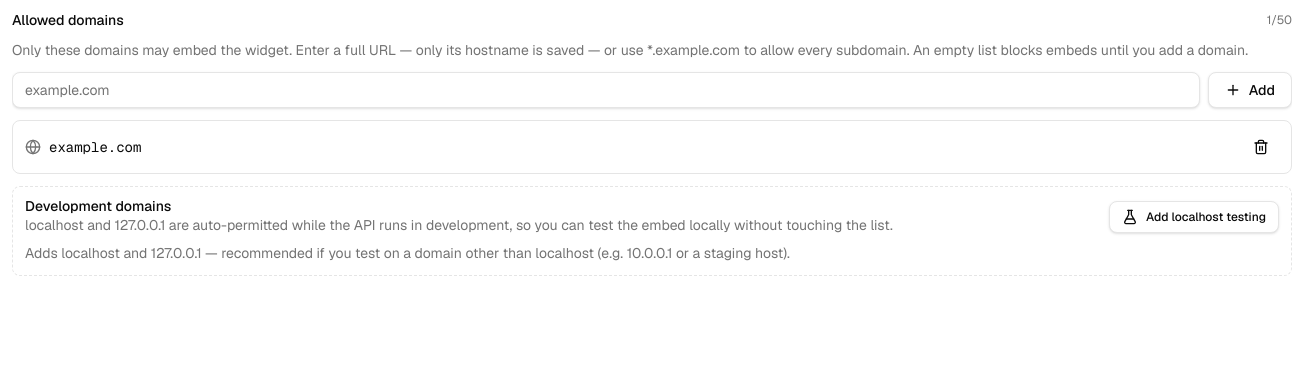
Scenario: AllowedDomainsEditor › rejects duplicates
Type "EXAMPLE.com" into the field labelled "Allowed domains" at point(606, 90), box [12,72,1200,108]
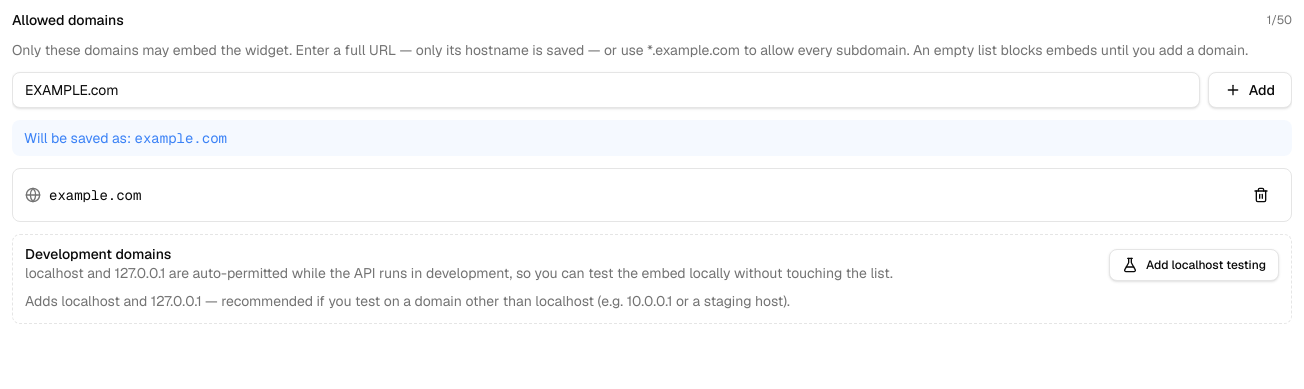
Click the button "Add" at point(1250, 90), box [1208,72,1292,108]
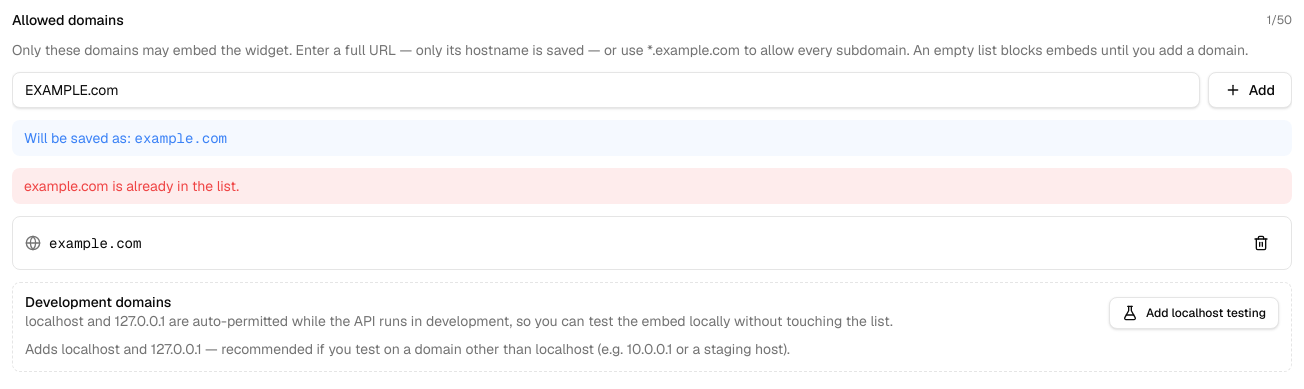
expect the text "example.com is already in the list." is shown: met, box [12,168,1292,204]
